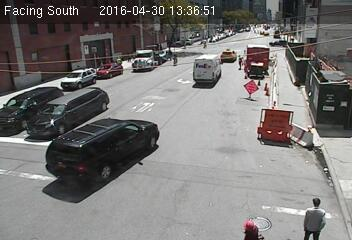neg: (245, 98, 272, 132), (248, 58, 260, 75)
pos: (298, 193, 332, 239)
